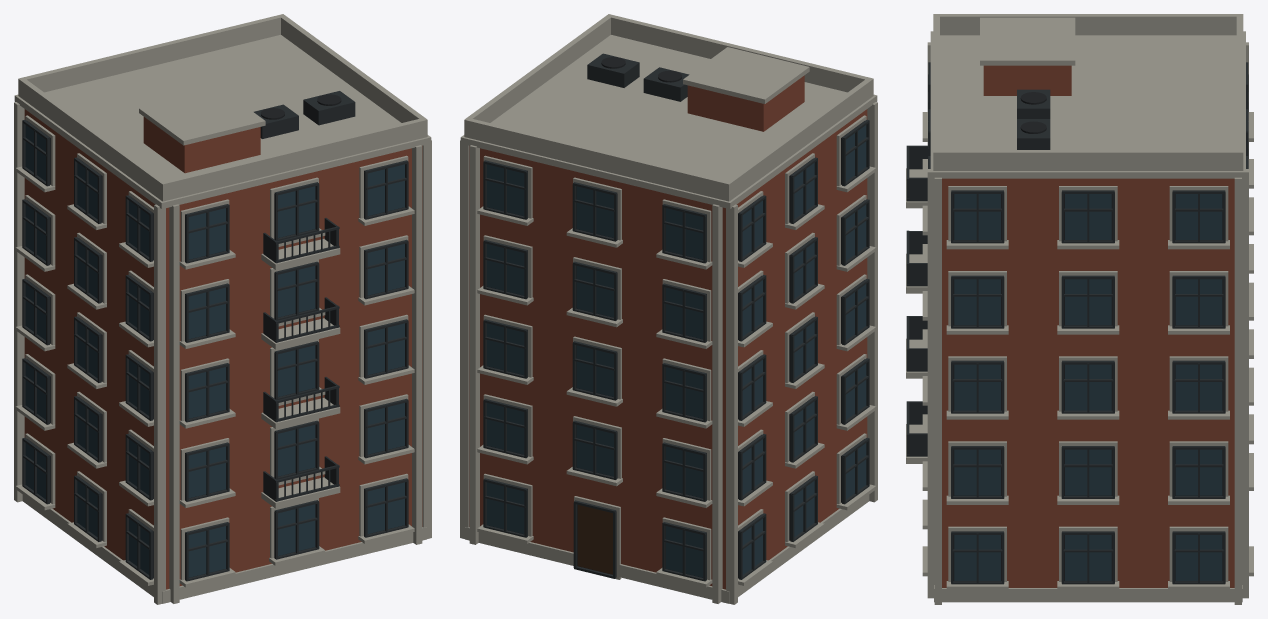
Rendered from UrbanLofts.obj.
3 views of the same model, side by side, from view 1: azimuth 30°, elevation 25°; view 2: azimuth 150°, elevation 25°; view 3: azimuth 270°, elevation 25° (orthographic). The views are drawn at different scales.
Parts seen in each view (by area): view 1: UrbanLofts; view 2: UrbanLofts; view 3: UrbanLofts.
Part boxes in pixels (bbox=[...]): UrbanLofts: bbox=[14, 14, 431, 604]; UrbanLofts: bbox=[460, 14, 877, 604]; UrbanLofts: bbox=[906, 14, 1253, 604].
Size of the model in its own units: 11.52 by 17.15 by 11.47.
